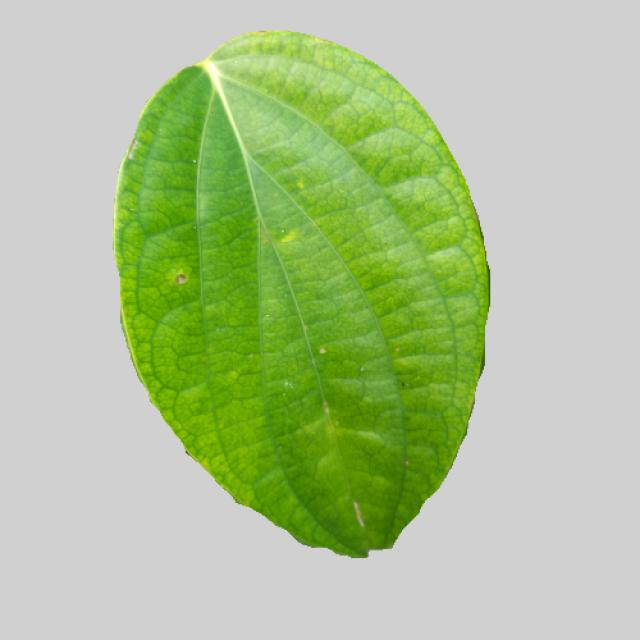healthy: (110, 29, 496, 565)
